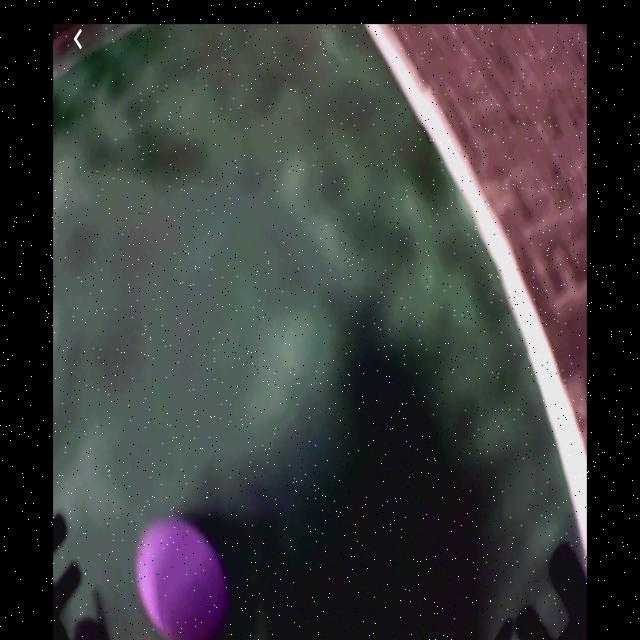ball: (137, 517, 230, 640)
